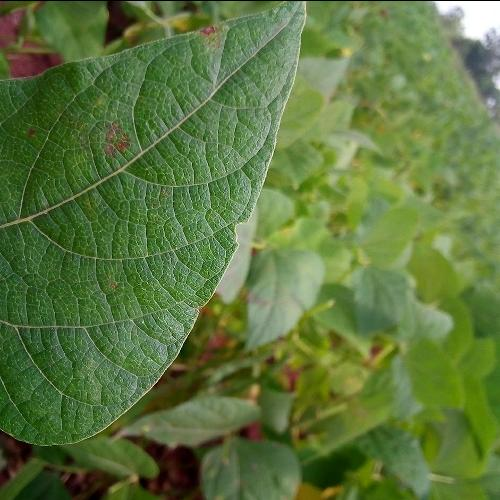hawar: (96, 103, 144, 164), (195, 22, 224, 54), (22, 123, 42, 143)
mozaik: (95, 192, 186, 315)
